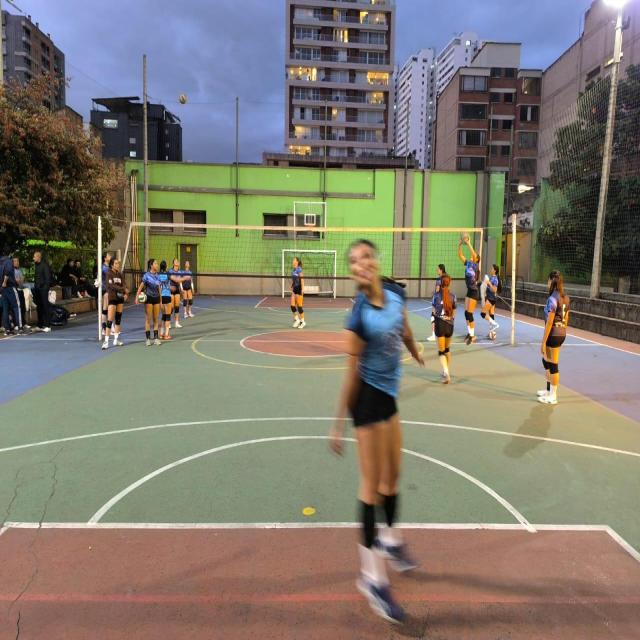volleyball: (178, 92, 188, 104), (138, 292, 147, 304), (461, 234, 469, 245), (488, 330, 496, 340)
